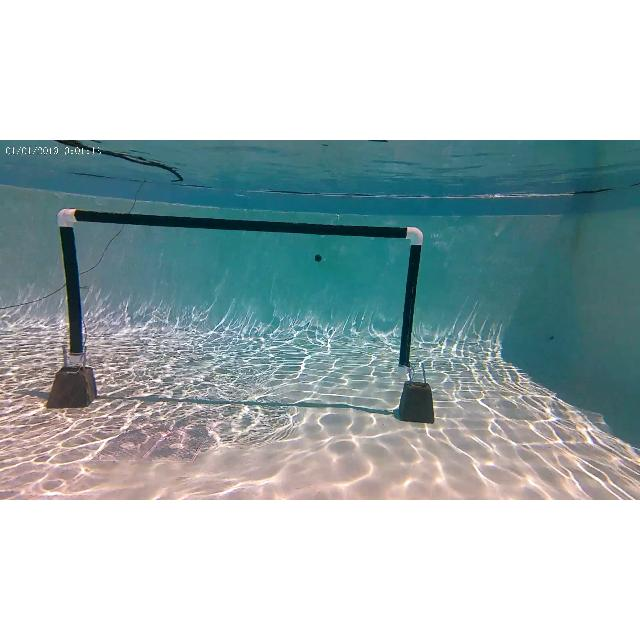prequal gate: (59, 206, 423, 370)
prequal gate leg l: (52, 208, 94, 400)
prequal gate leg r: (396, 226, 424, 420)
